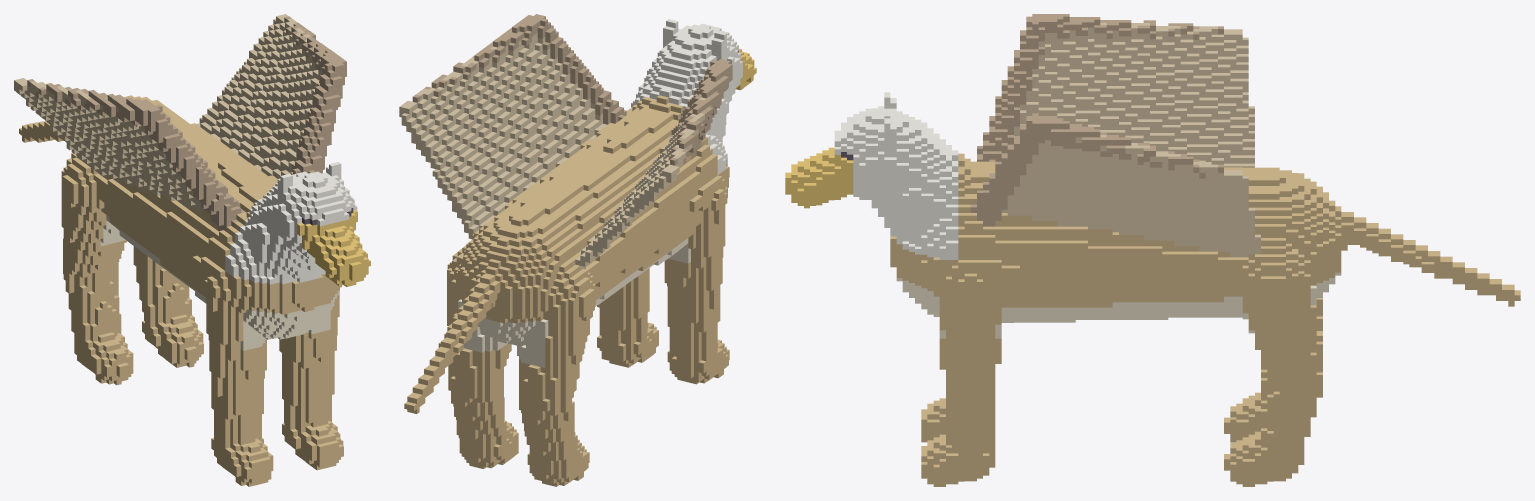
Rendered from griffon.glb.
3 renders of one model, left to right at view 1: azimuth 30°, elevation 25°; view 2: azimuth 150°, elevation 25°; view 3: azimuth 270°, elevation 25°, orthographic. The views are drawn at different scales.
Parts seen in each view (by area): view 1: item; view 2: item; view 3: item.
Boxes of the visible parts, left/top/right/bottom form: item: left=14, top=14, right=370, bottom=486; item: left=399, top=14, right=756, bottom=486; item: left=785, top=14, right=1520, bottom=486.
Bounding box in the file's own units: 56 × 70 × 119.
